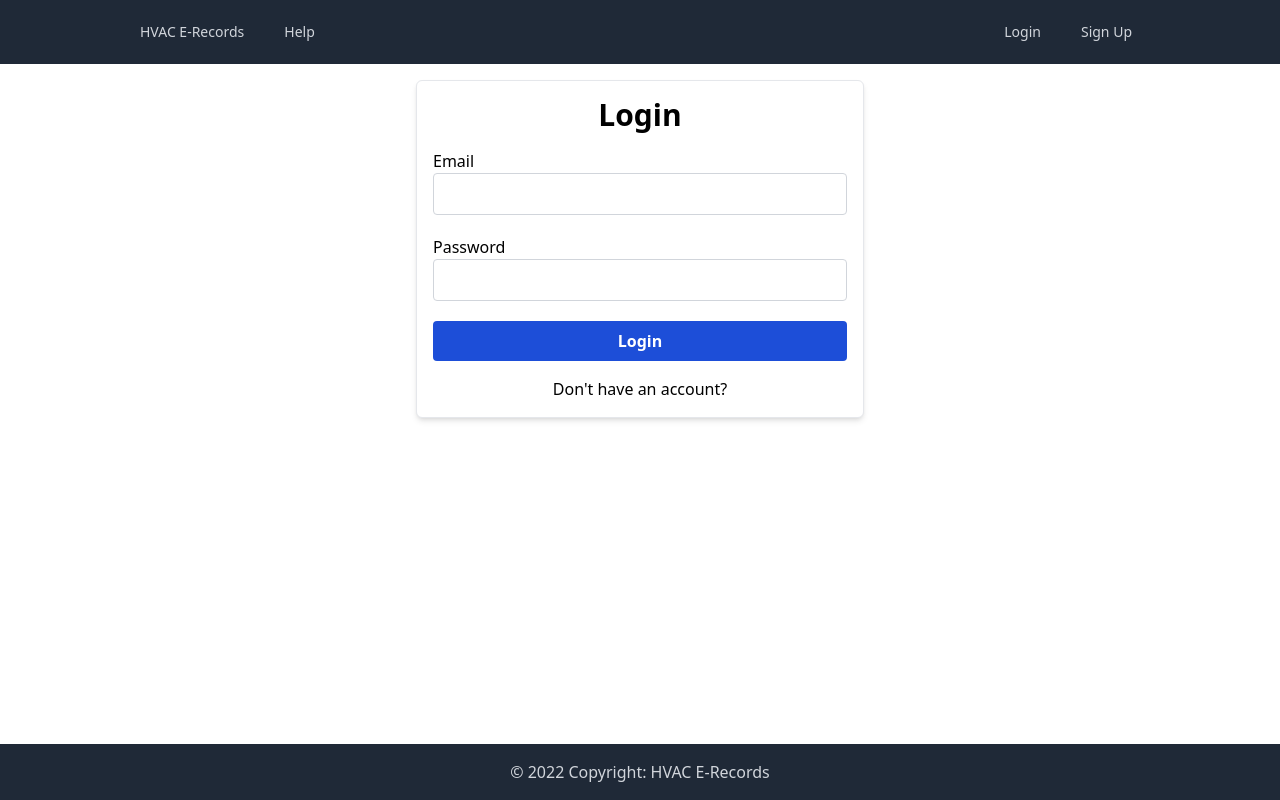
Test: Updating plan › should display successful message when unit is created
Type "test@test.com" into the field with id "email" at x=640, y=194, box [433,173,847,215]
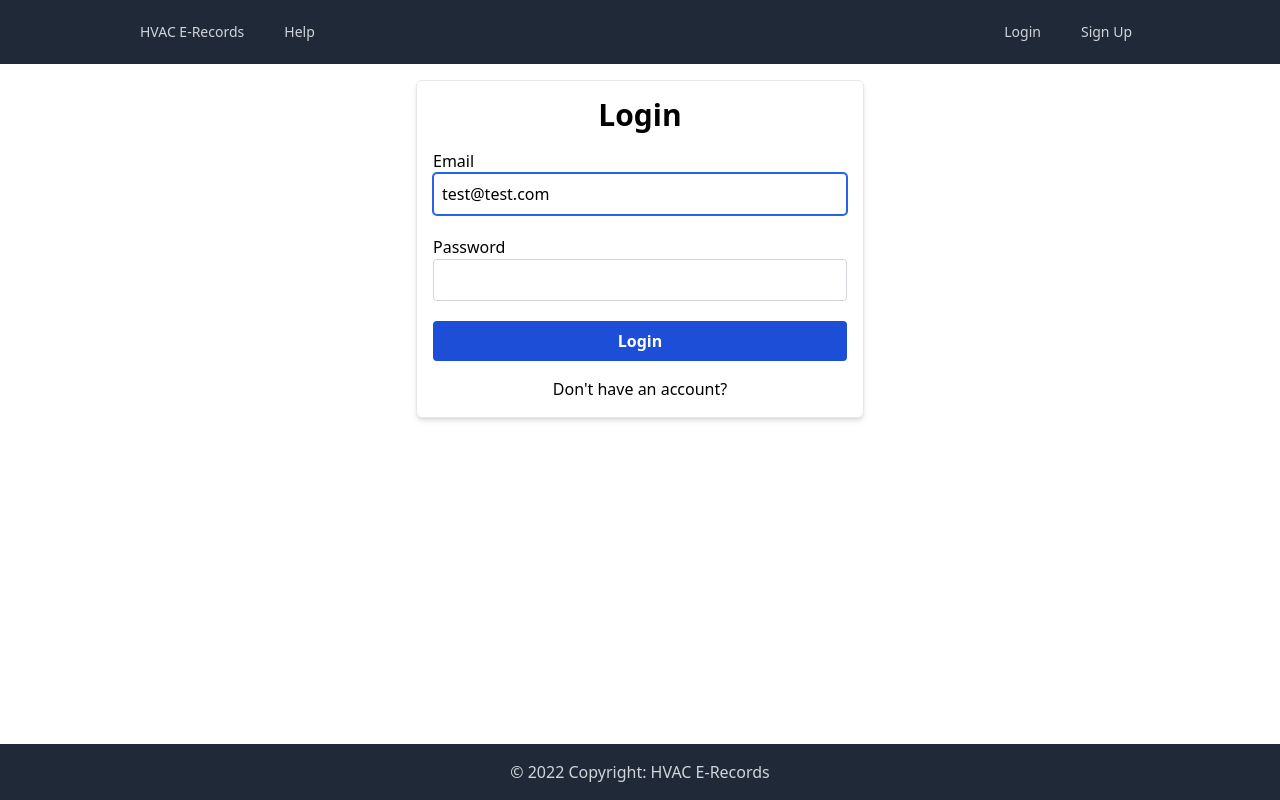
Type "Testing123!" into the password field labelled "Password" at x=640, y=280, box [433,259,847,301]
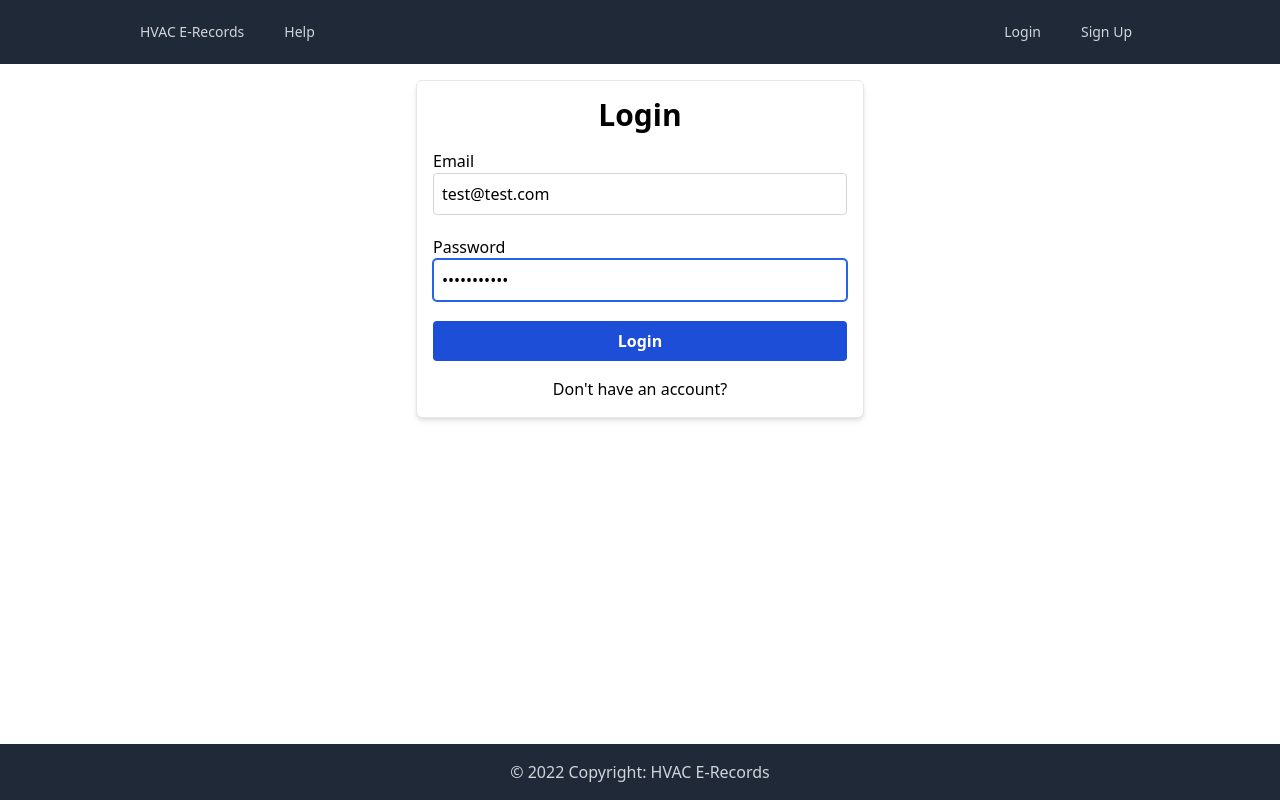
Click the button with id "login-button" at x=640, y=341, box [433,321,847,361]
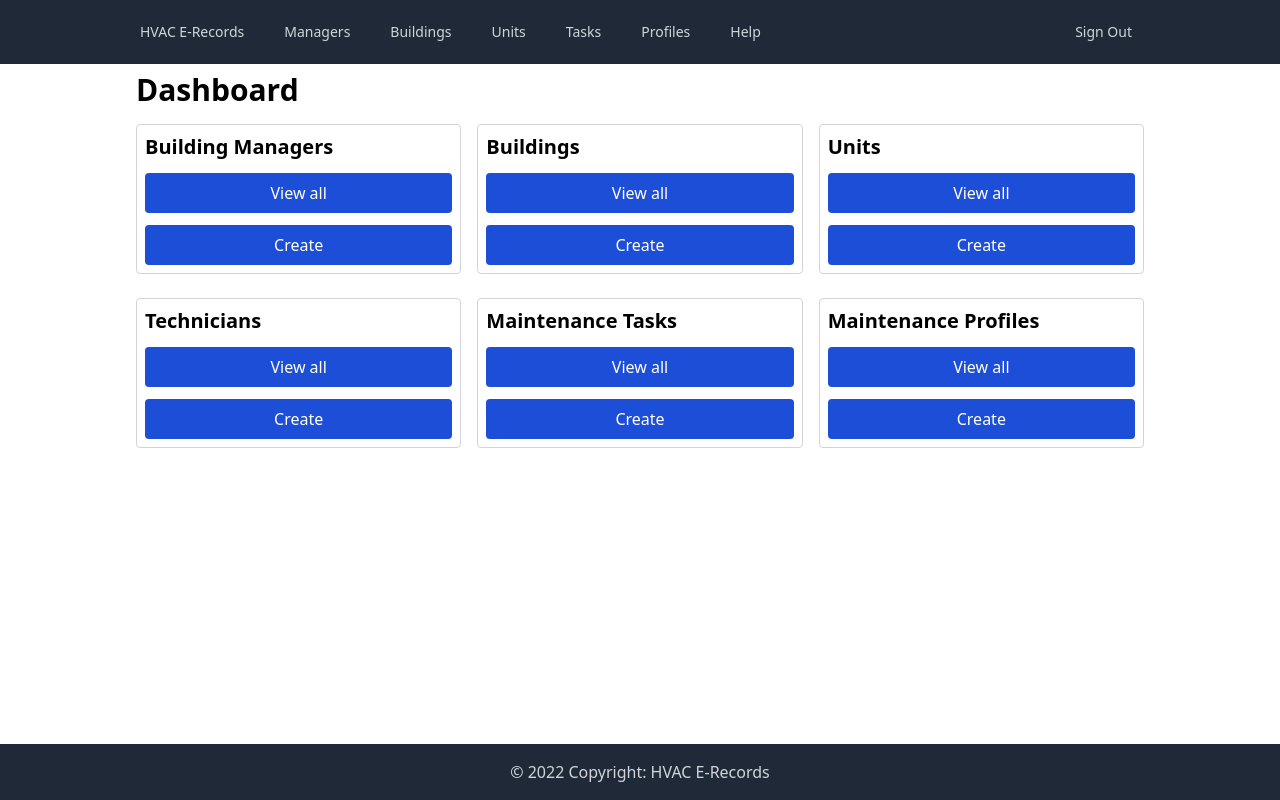
Open "http://localhost:3000/plans/edit/1"
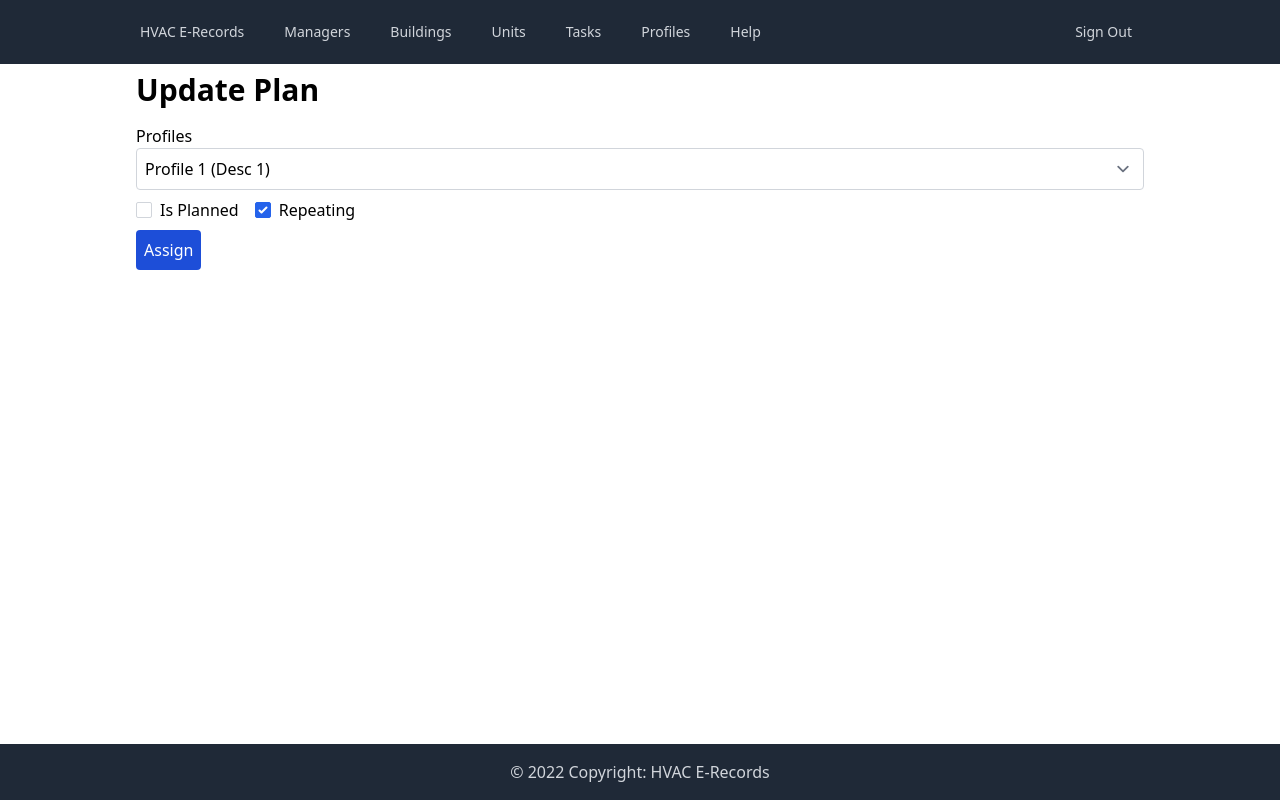
Click the button with id "assign-button" at x=169, y=250, box [136,230,201,270]
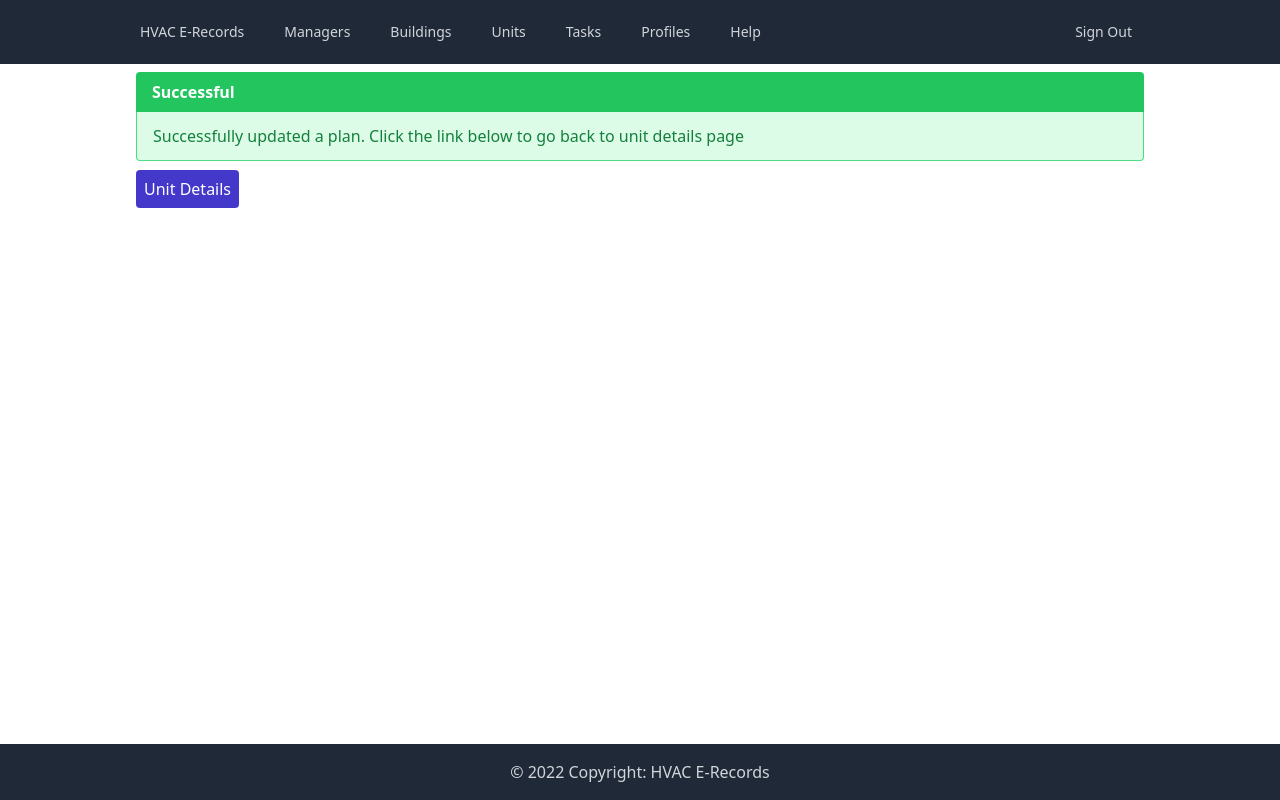
Result: the text with id "alert-title" reads "Successful" at [152,81,235,103]
